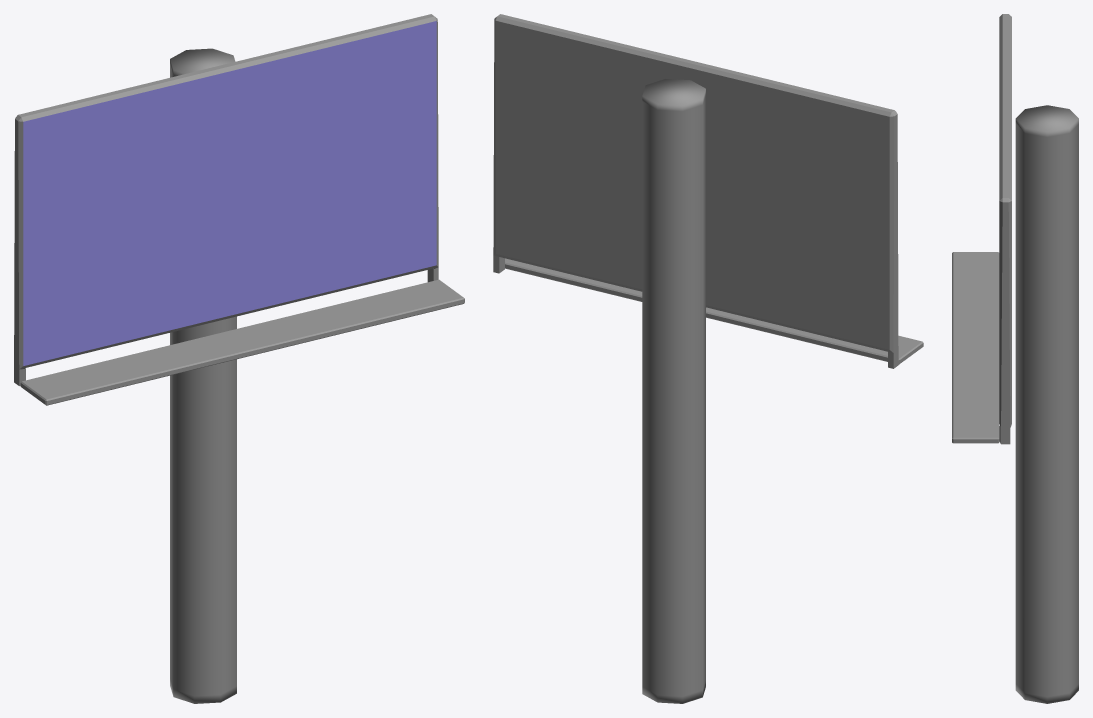
File: bilboard.fbx
3 renders of one model, left to right at view 1: azimuth 30°, elevation 25°; view 2: azimuth 150°, elevation 25°; view 3: azimuth 270°, elevation 25°, orthographic. The views are drawn at different scales.
Visible parts, largest first — view 1: Plane, Cylinder; view 2: Plane, Cylinder; view 3: Cylinder, Plane.
Part boxes in pixels (x1,y1,x2,y2): Plane: (14, 14, 464, 405); Cylinder: (170, 48, 236, 703); Plane: (493, 14, 923, 368); Cylinder: (642, 79, 705, 703); Cylinder: (1015, 105, 1078, 703); Plane: (952, 14, 1011, 444).
Bounding box in the file's own units: 700 × 1022 × 201.
